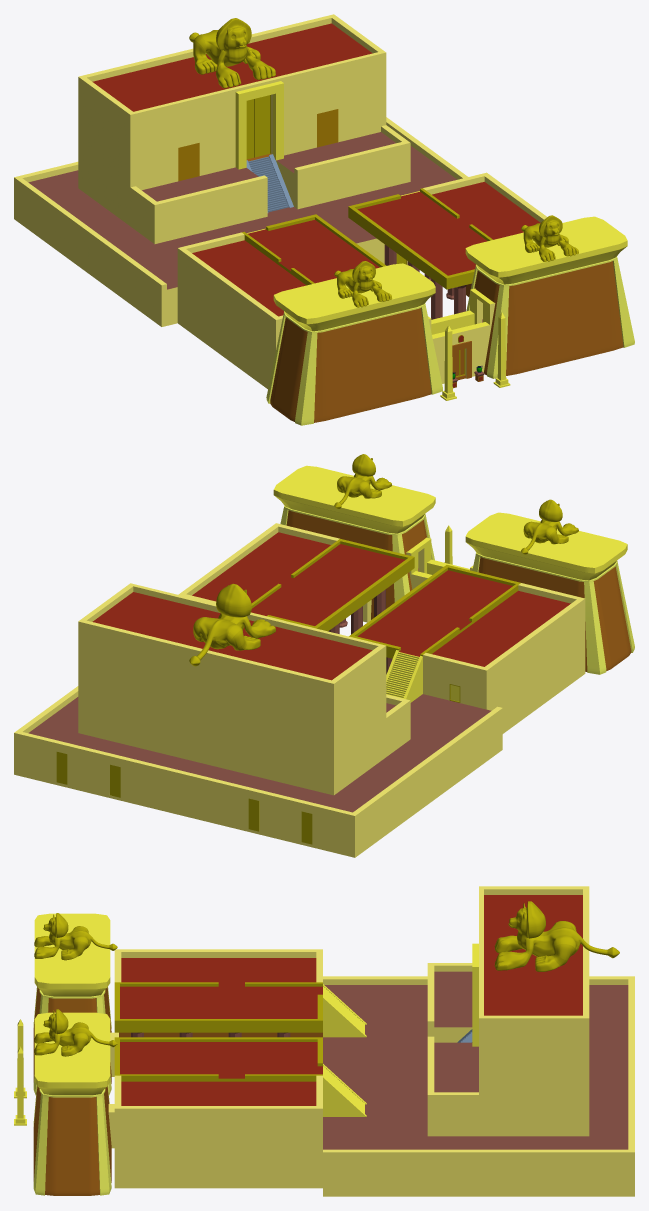
The model's file is temple.fbx.
3 renders of one model, top to bottom at view 1: azimuth 30°, elevation 25°; view 2: azimuth 150°, elevation 25°; view 3: azimuth 270°, elevation 25°, orthographic. The views are drawn at different scales.
Parts seen in each view (by area): view 1: Structure_F2, Hall, Body.001, Body.002, Build, East.002, Head.001, Head, West.002, Build.001, West, Main (+13 smaller); view 2: Structure_F2, Hall, Build, East.002, West.002, Body.001, Head, Head.001, Build.001, Body.002, Main, West (+4 smaller); view 3: Hall, Structure_F2, Build.001, West.002, East.002, East, Body.002, Build, Head.001, Head, Main, East.004 (+7 smaller).
Part boxes in pixels (x1,y1,x2,y2): Structure_F2: [78, 14, 410, 243]; Hall: [14, 117, 467, 326]; Body.001: [266, 303, 442, 425]; Body.002: [466, 256, 634, 378]; Build: [177, 232, 306, 357]; East.002: [348, 188, 492, 289]; Head.001: [465, 216, 627, 284]; Head: [273, 263, 435, 331]; West.002: [242, 214, 386, 285]; Build.001: [423, 172, 547, 239]; West: [177, 287, 274, 388]; Main: [189, 18, 275, 88]; Structure_F2: [78, 583, 410, 795]; Hall: [14, 686, 502, 857]; Build: [423, 583, 585, 709]; East.002: [251, 538, 414, 631]; West.002: [349, 565, 520, 658]; Body.001: [472, 552, 634, 674]; Head: [465, 512, 627, 580]; Head.001: [273, 465, 435, 533]; Build.001: [178, 523, 339, 603]; Body.002: [280, 505, 434, 619]; Main: [189, 583, 275, 666]; West: [487, 638, 585, 733]; Hall: [323, 976, 634, 1196]; Structure_F2: [427, 886, 589, 1136]; Build.001: [114, 1075, 322, 1149]; West.002: [114, 982, 322, 1032]; East.002: [114, 1037, 322, 1081]; East: [114, 1150, 322, 1188]; Body.002: [33, 1086, 111, 1195]; Build: [114, 949, 322, 985]; Head.001: [34, 1012, 110, 1095]; Head: [34, 913, 110, 996]; Main: [494, 901, 619, 971]; East.004: [34, 1009, 117, 1056].
Size of the model in its own units: 12800 by 7023 by 19100.
